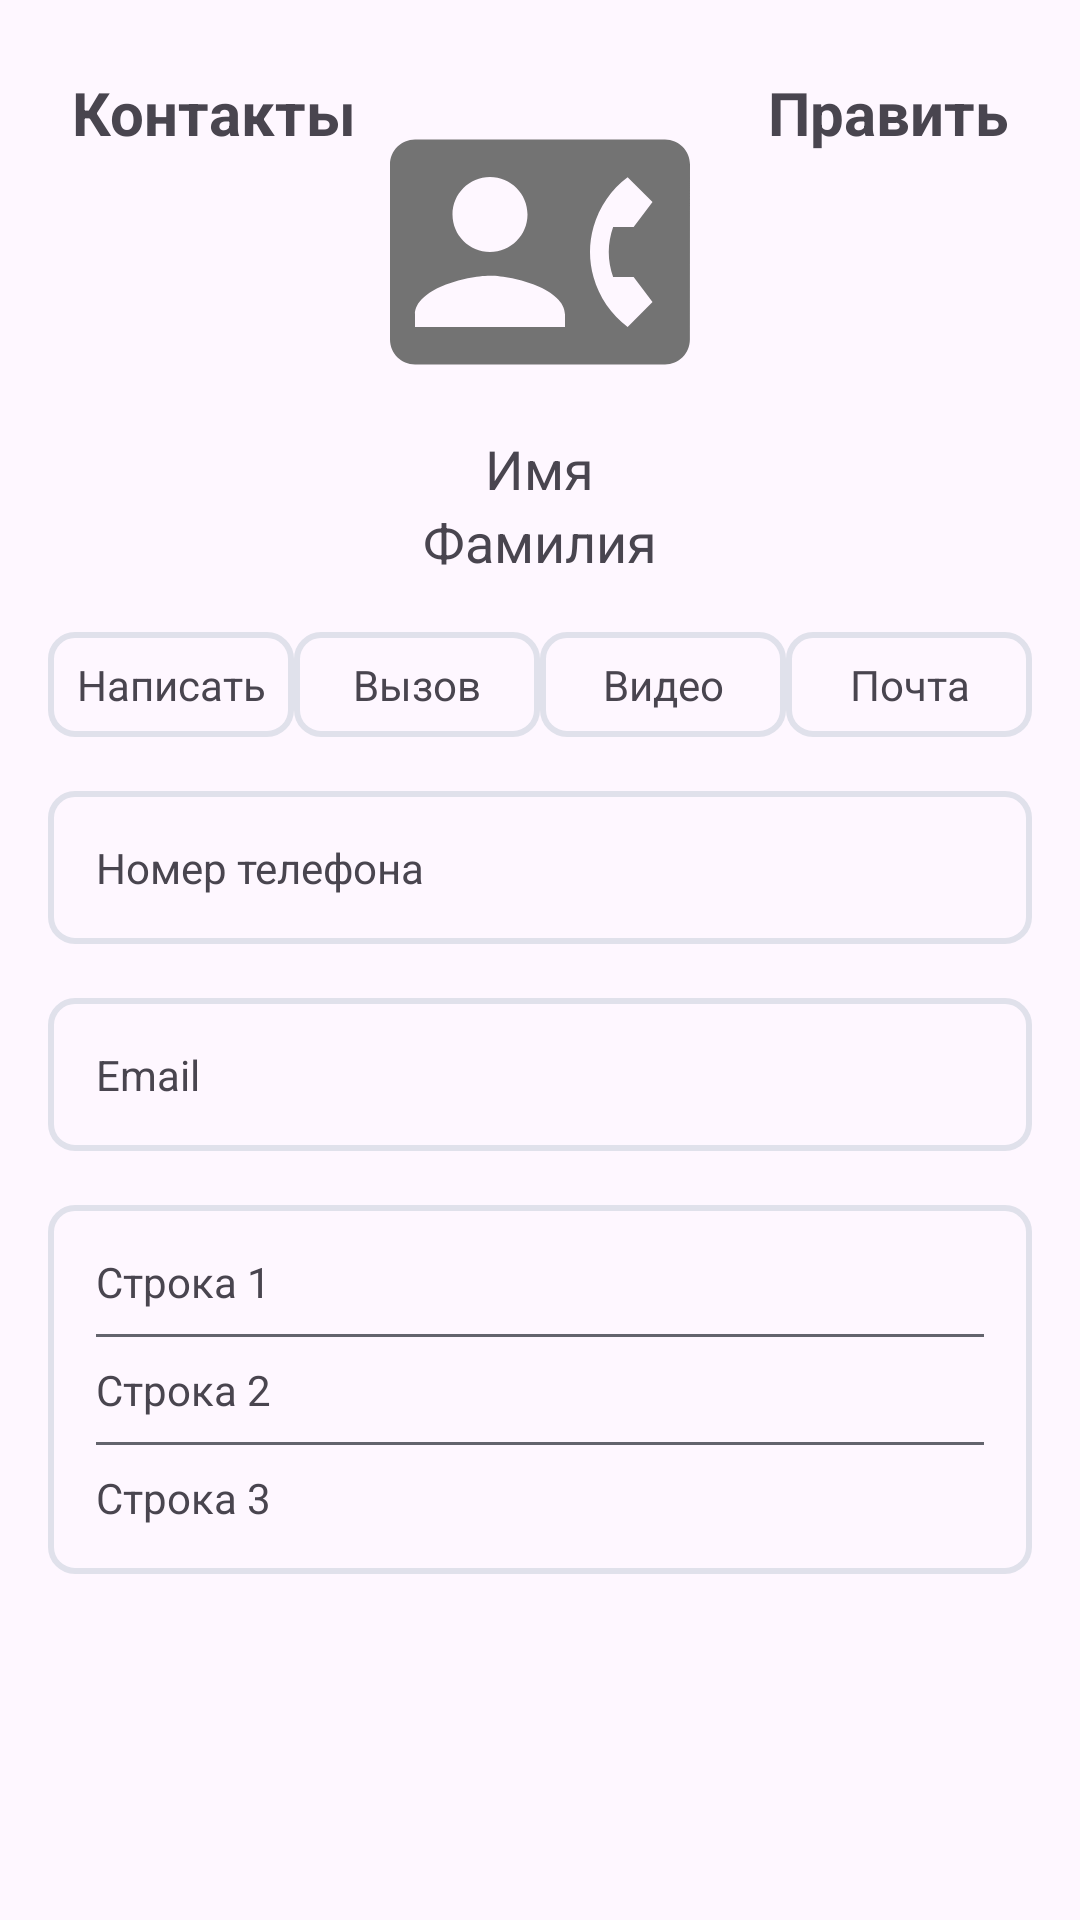

Icons on this 1080px×1920px Android screen, each with the point to tap as [x,y]:
contact phone: [540,252]
